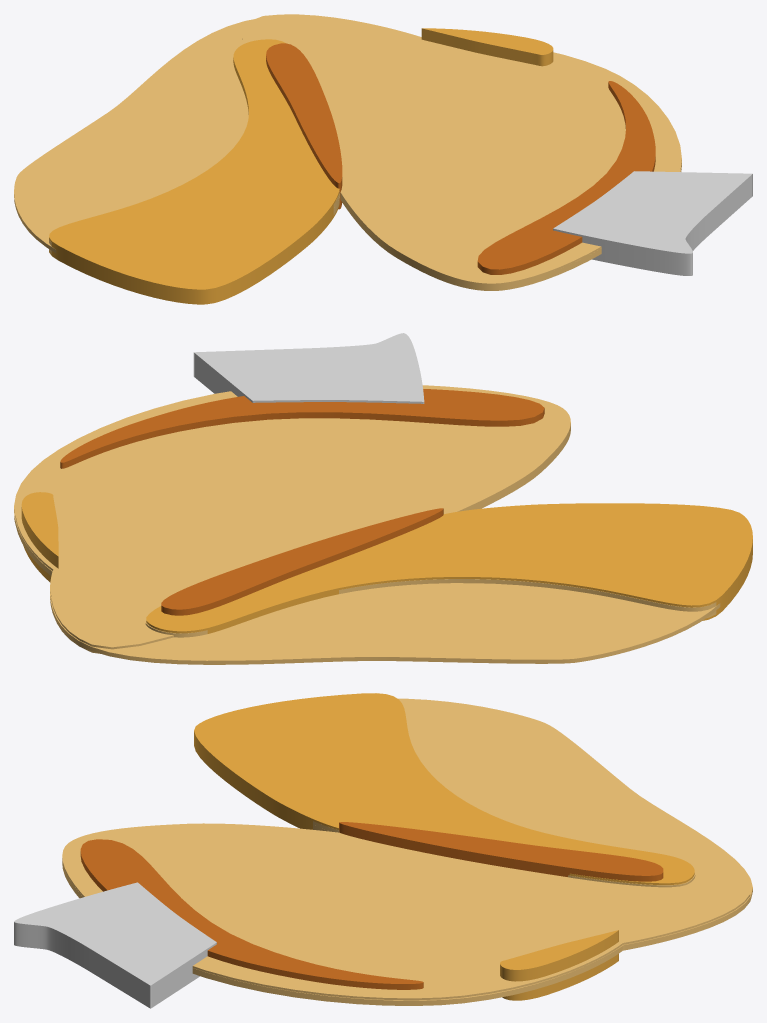
The model's file is emoji_u1f960.glb.
The picture shows the model from 3 angles, top to bottom: view 1: azimuth 30°, elevation 25°; view 2: azimuth 150°, elevation 25°; view 3: azimuth 270°, elevation 25°; orthographic projection. The views are drawn at different scales.
Parts seen in each view (by area): view 1: emoji_u1f960; view 2: emoji_u1f960; view 3: emoji_u1f960.
Part boxes in pixels (x1=…): emoji_u1f960: x1=14, y1=14, x2=752, y2=304; emoji_u1f960: x1=14, y1=333, x2=752, y2=664; emoji_u1f960: x1=14, y1=693, x2=752, y2=1008.
Bounding box in the file's own units: 0.0337 × 0.0016 × 0.0348.
